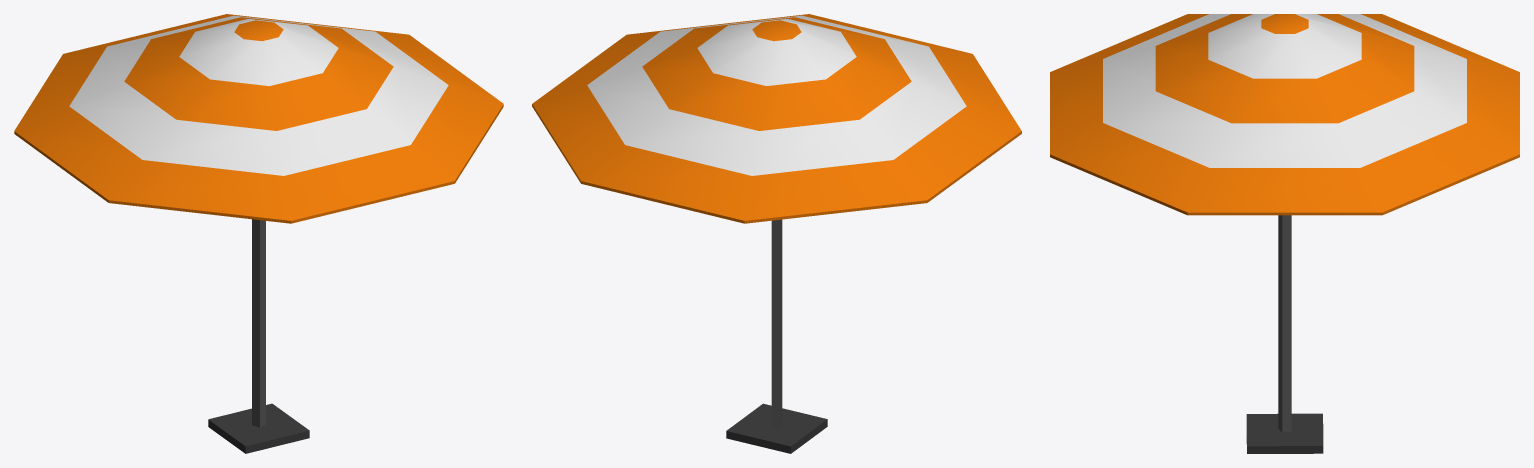
File: SM_Props_Cafe_08.fbx
The picture shows the model from 3 angles, left to right: view 1: azimuth 30°, elevation 25°; view 2: azimuth 150°, elevation 25°; view 3: azimuth 270°, elevation 25°; orthographic projection. The views are drawn at different scales.
Parts seen in each view (by area): view 1: SM_Props_Cafe_08; view 2: SM_Props_Cafe_08; view 3: SM_Props_Cafe_08.
Boxes of the visible parts, bbox=[...] form: SM_Props_Cafe_08: bbox=[14, 14, 503, 453]; SM_Props_Cafe_08: bbox=[532, 14, 1021, 453]; SM_Props_Cafe_08: bbox=[1050, 14, 1519, 453].
Bounding box in the file's own units: 2.87 × 2.79 × 2.87.
